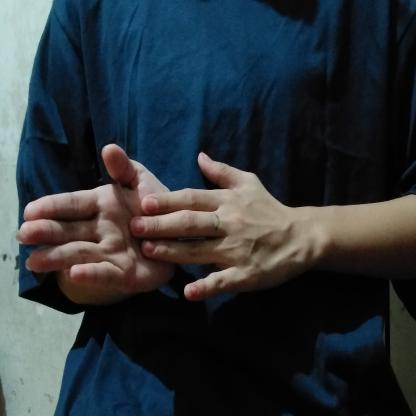mother: (13, 134, 416, 310)
